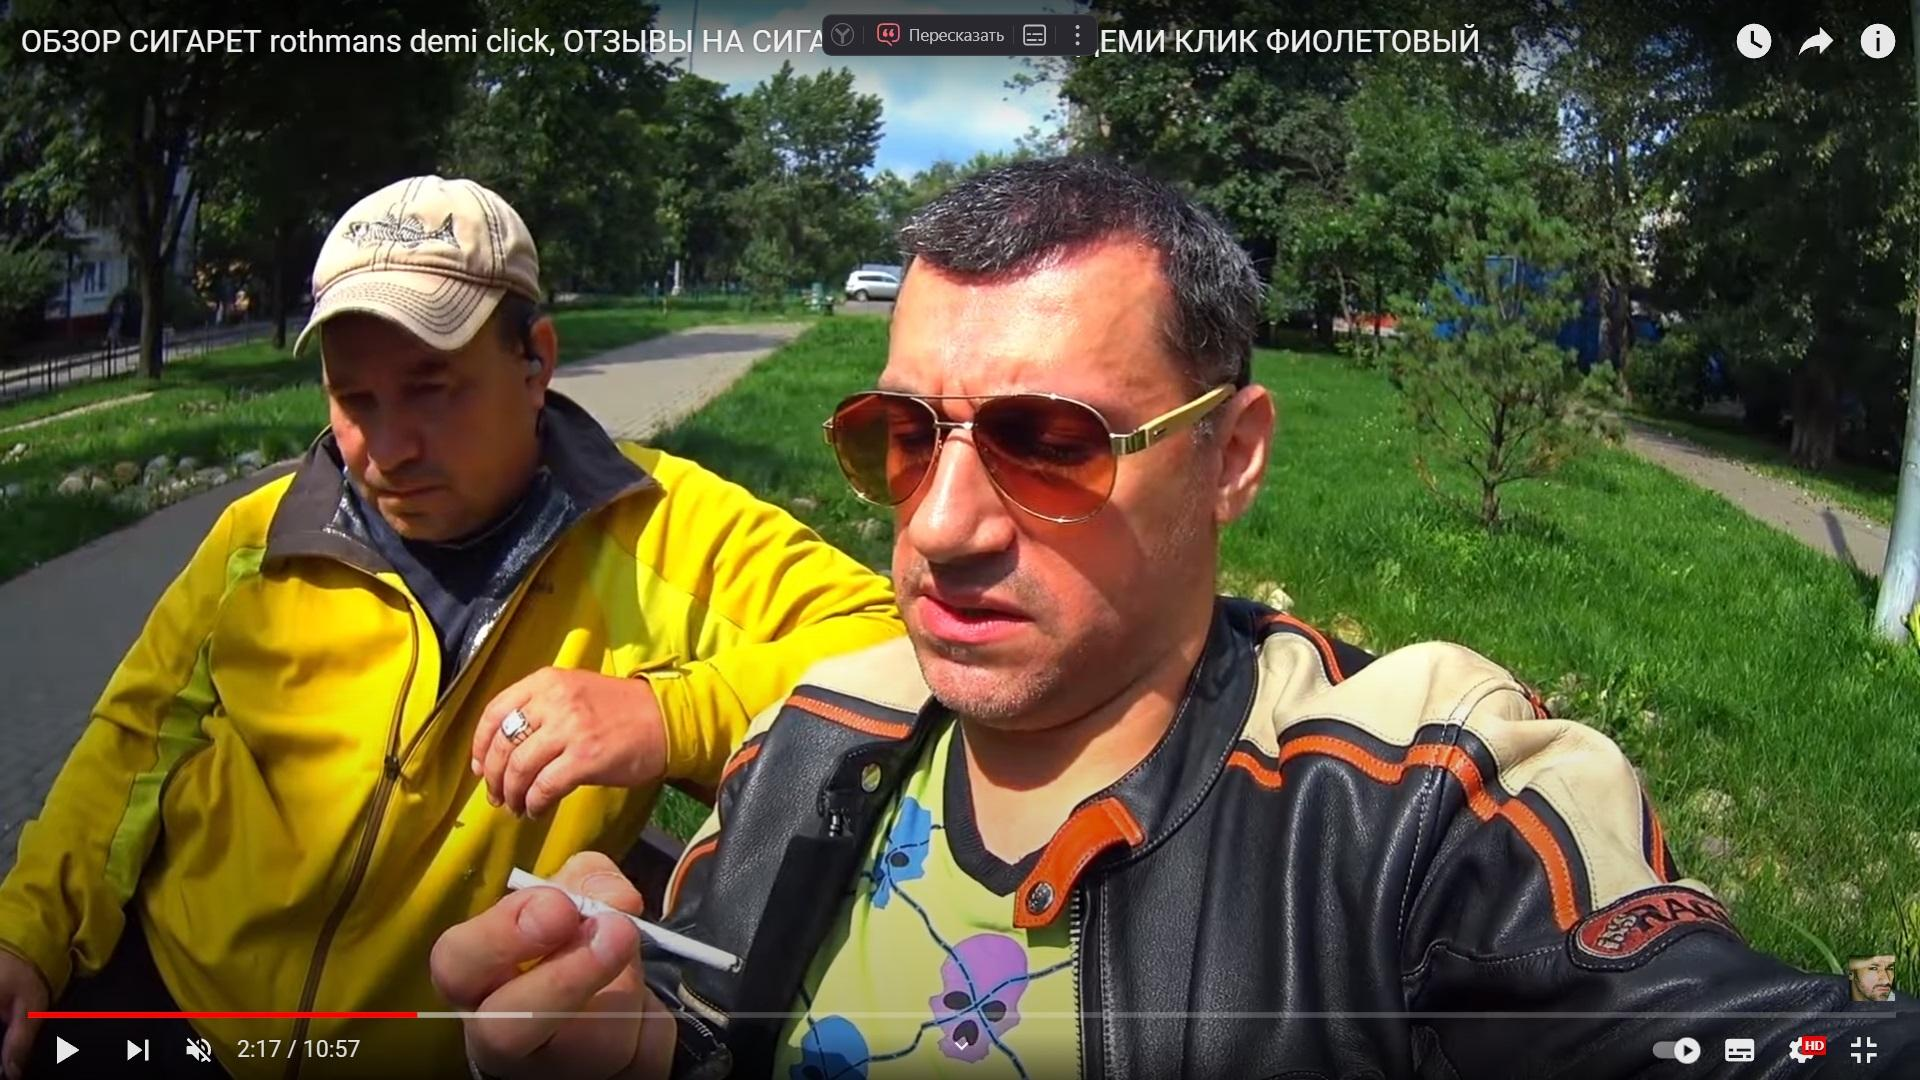cigarette: (506, 868, 744, 975)
